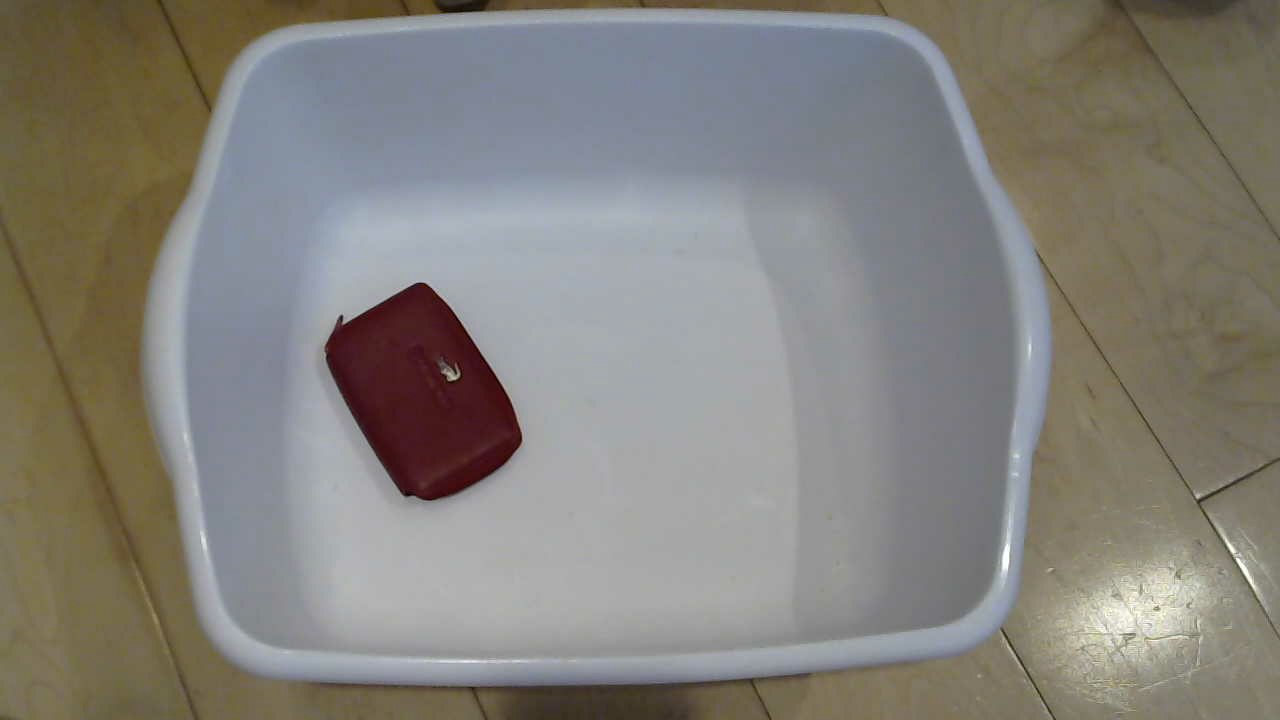wallet: (287, 276, 523, 516)
